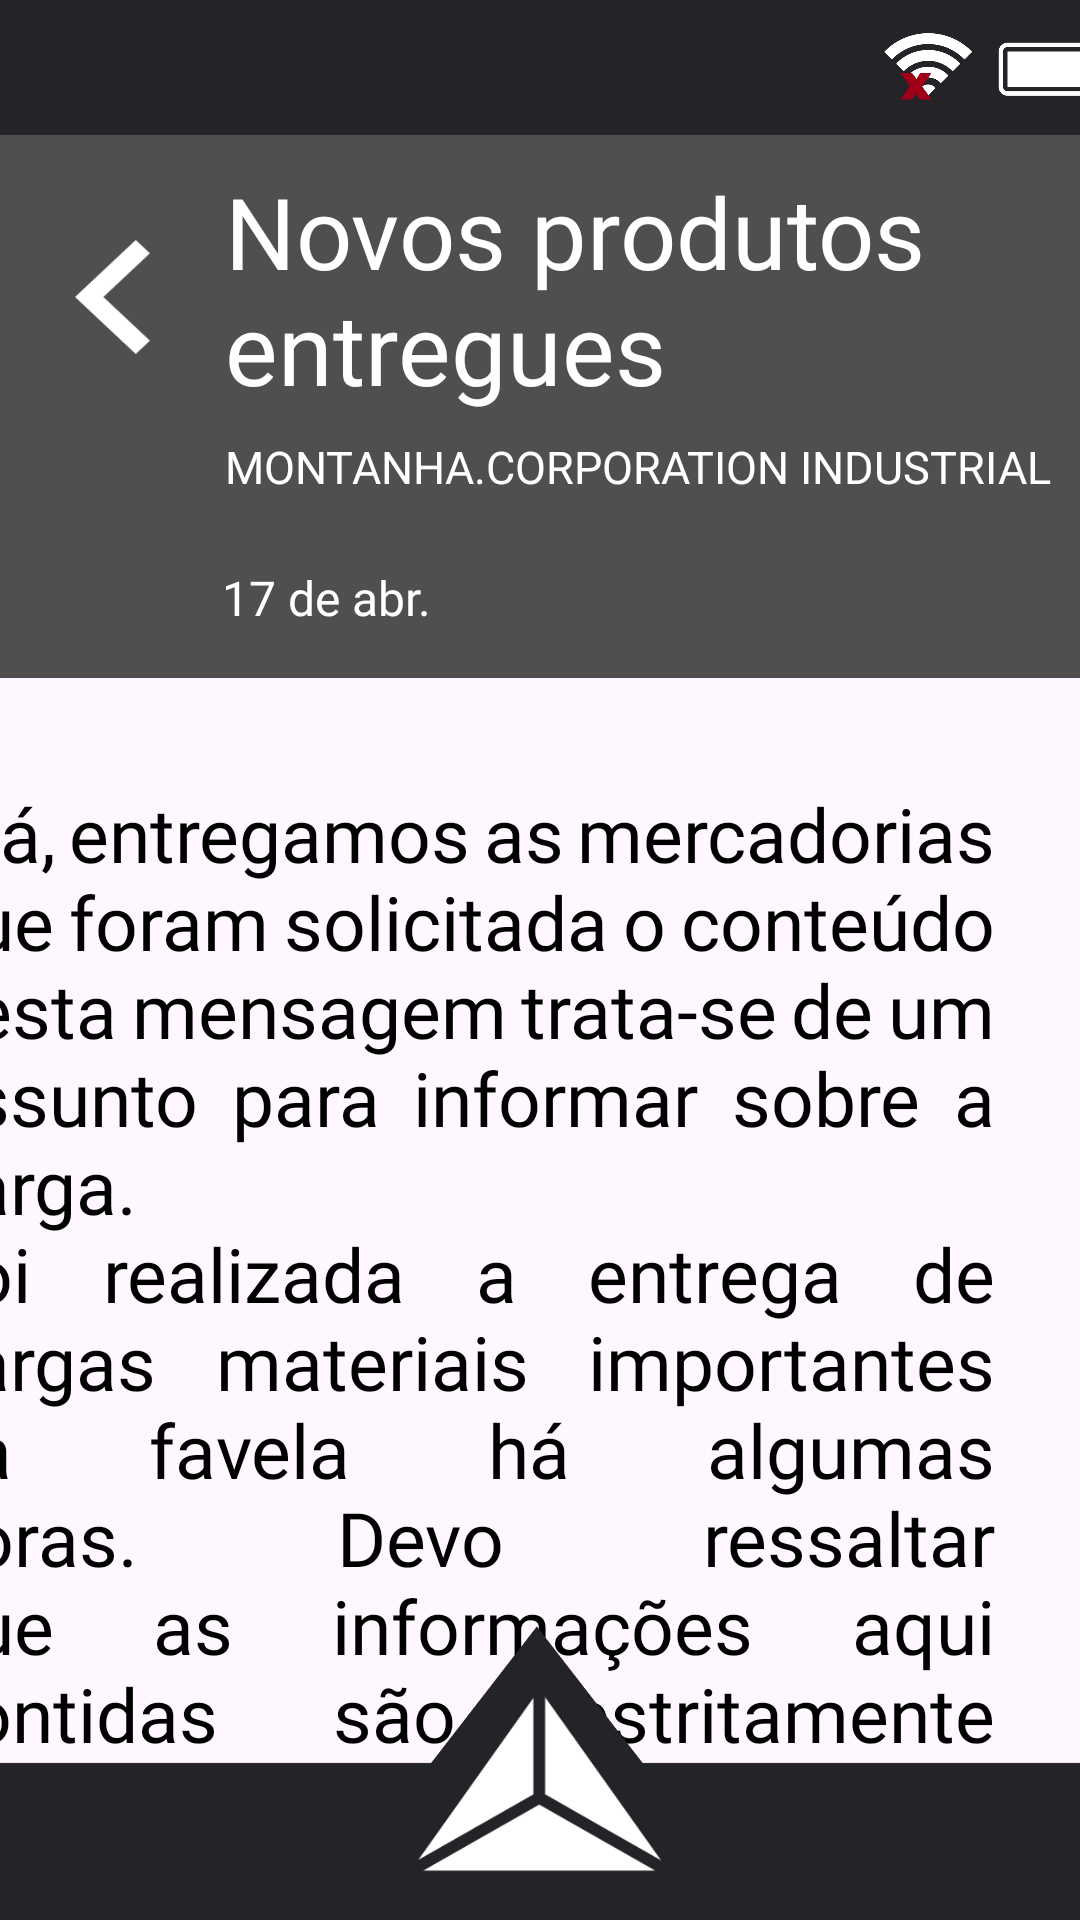

Screen size 1080*1920. Icon name, then its center in pixels as point (x, y):
btnvoltaremail: point (112, 297)
